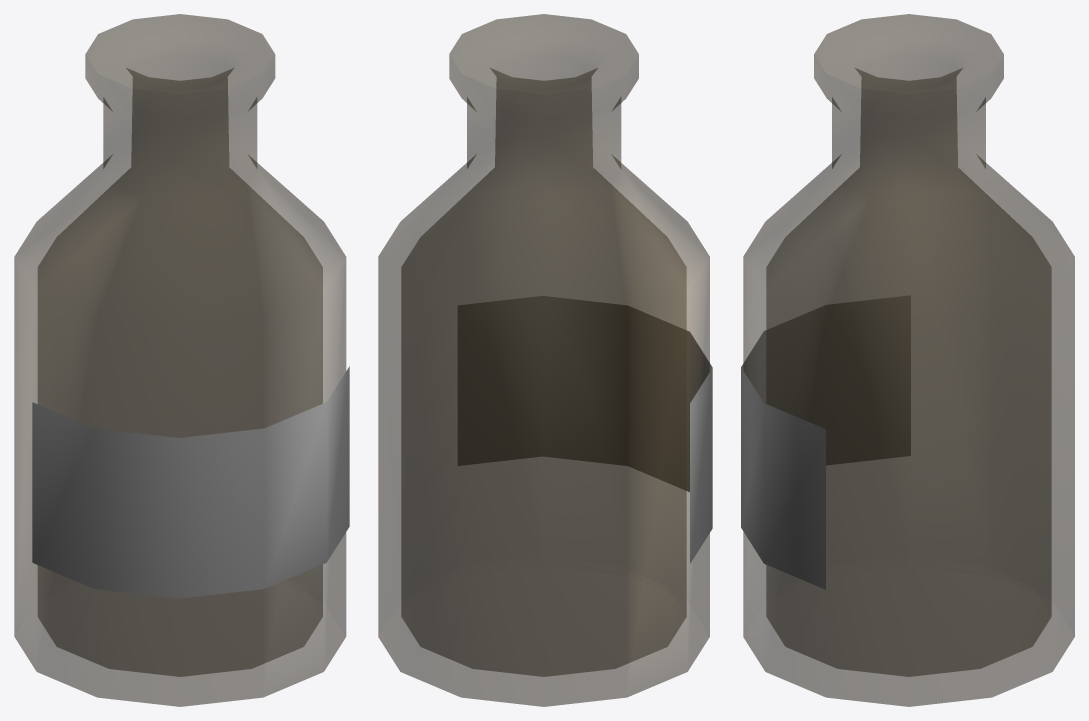
Rendered from human-containers-glass-bottle_v5.glb.
3 renders of one model, left to right at view 1: azimuth 30°, elevation 25°; view 2: azimuth 150°, elevation 25°; view 3: azimuth 270°, elevation 25°, orthographic.
Parts seen in each view (by area): view 1: Glass Bottle_v5.001, Glass Bottle_v5; view 2: Glass Bottle_v5.001, Glass Bottle_v5; view 3: Glass Bottle_v5.001, Glass Bottle_v5.
Part boxes in pixels (x1=…): Glass Bottle_v5.001: x1=14, y1=14, x2=346, y2=706; Glass Bottle_v5: x1=32, y1=366, x2=349, y2=598; Glass Bottle_v5.001: x1=378, y1=14, x2=709, y2=706; Glass Bottle_v5: x1=458, y1=296, x2=712, y2=563; Glass Bottle_v5.001: x1=743, y1=14, x2=1074, y2=706; Glass Bottle_v5: x1=741, y1=295, x2=910, y2=589.
Bounding box in the file's own units: 0.1044 × 0.2 × 0.1038.
